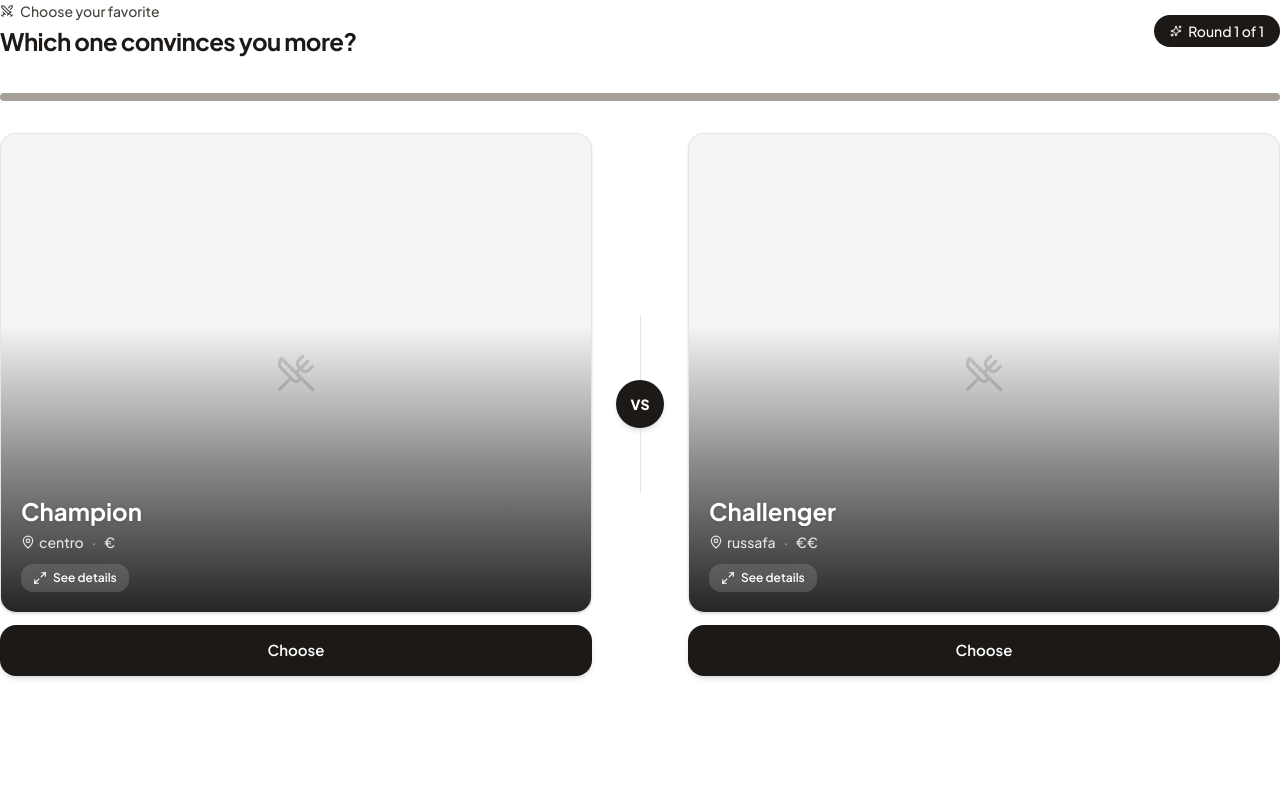
BattleView › English › shows Instagram link in English
Click the heading "Challenger": (773, 511) [709,496,836,526]
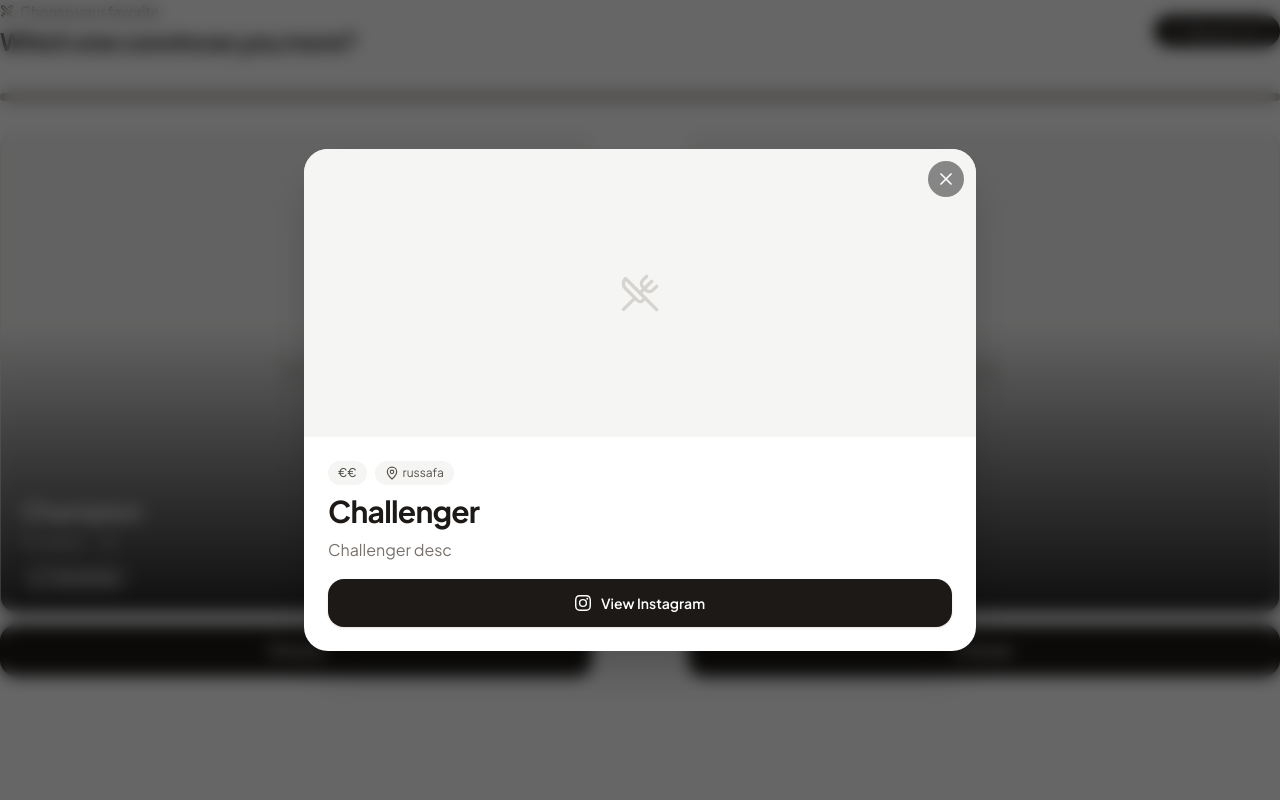
Now the link "View Instagram" is shown, box [328,579,952,627]
